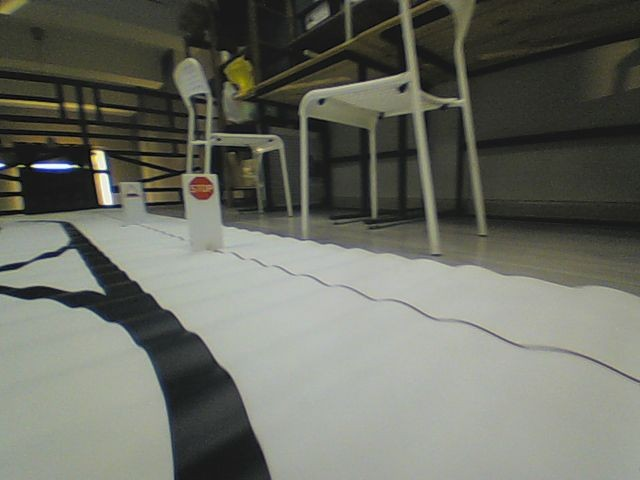Stop: (188, 176, 214, 201)
